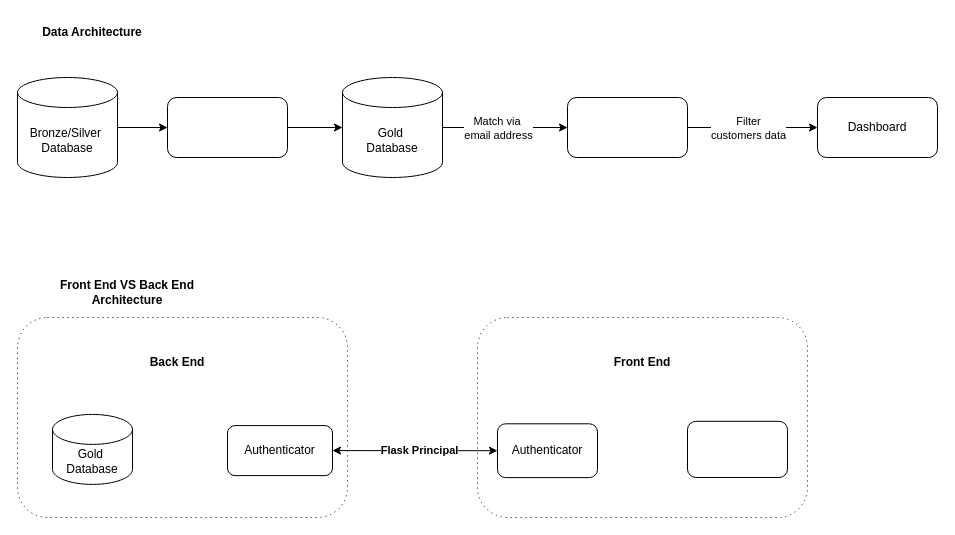
This 955x535 diagram has some shape labels left out. Here are the shapes that lost their labels. From the top down, the box of each, then its label:
(166, 96, 288, 158): Transform Data
(566, 96, 688, 158): Authenticate (IAM) to customer ID
(686, 420, 788, 478): Flask Dashboard
